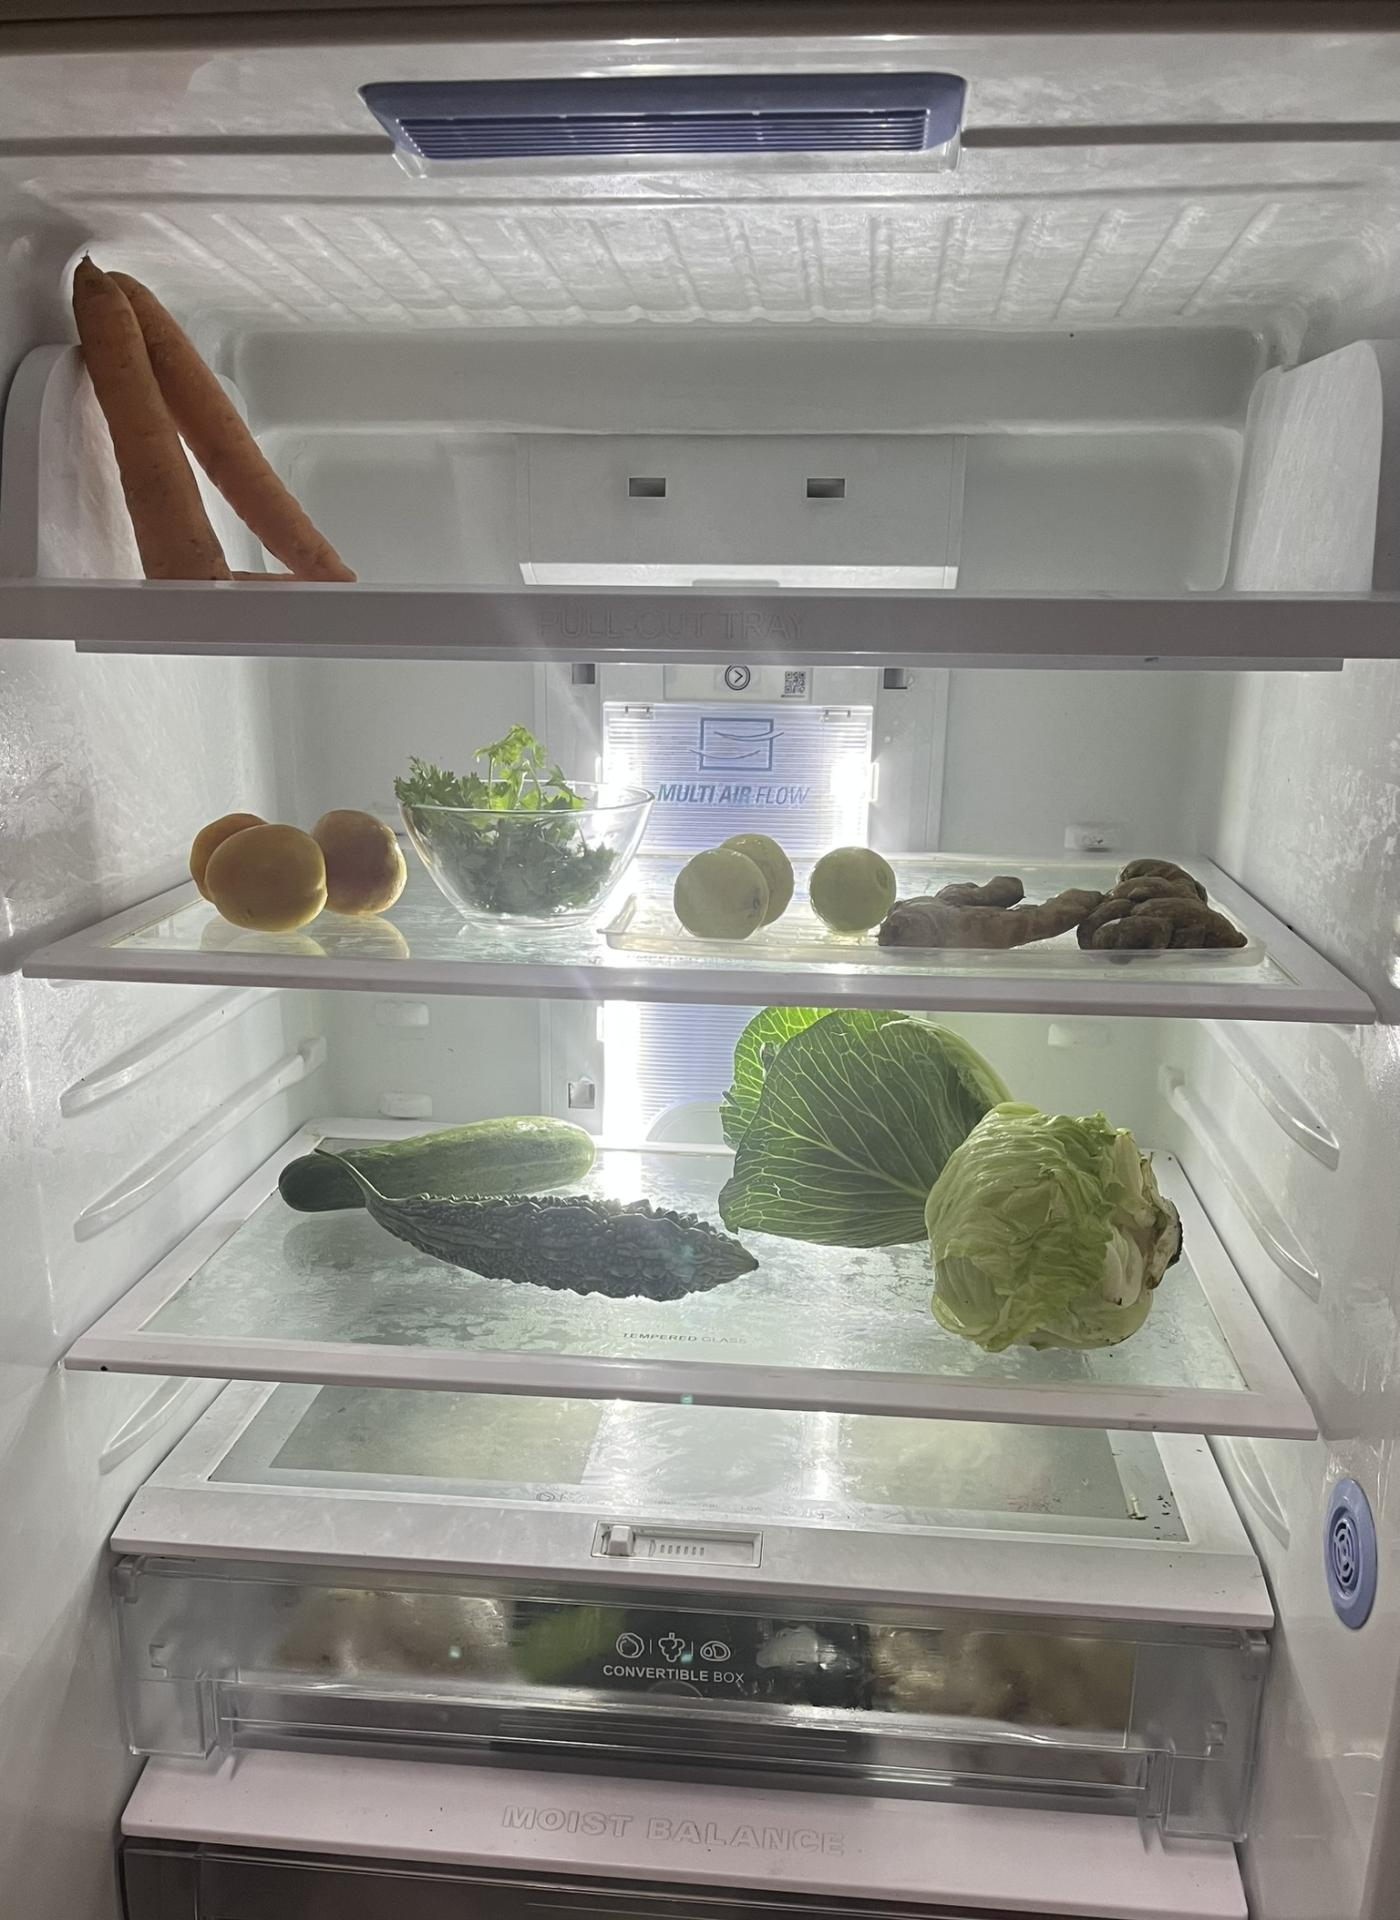cabbage: (723, 1009, 1009, 1257)
carrots: (67, 237, 364, 587)
coriander: (401, 726, 605, 915)
cucumber: (252, 1112, 629, 1185)
ginger: (875, 860, 1246, 957)
lemon: (671, 821, 796, 947), (811, 844, 905, 941)
lettuce: (924, 1094, 1188, 1357)
tomato: (179, 806, 422, 921)
